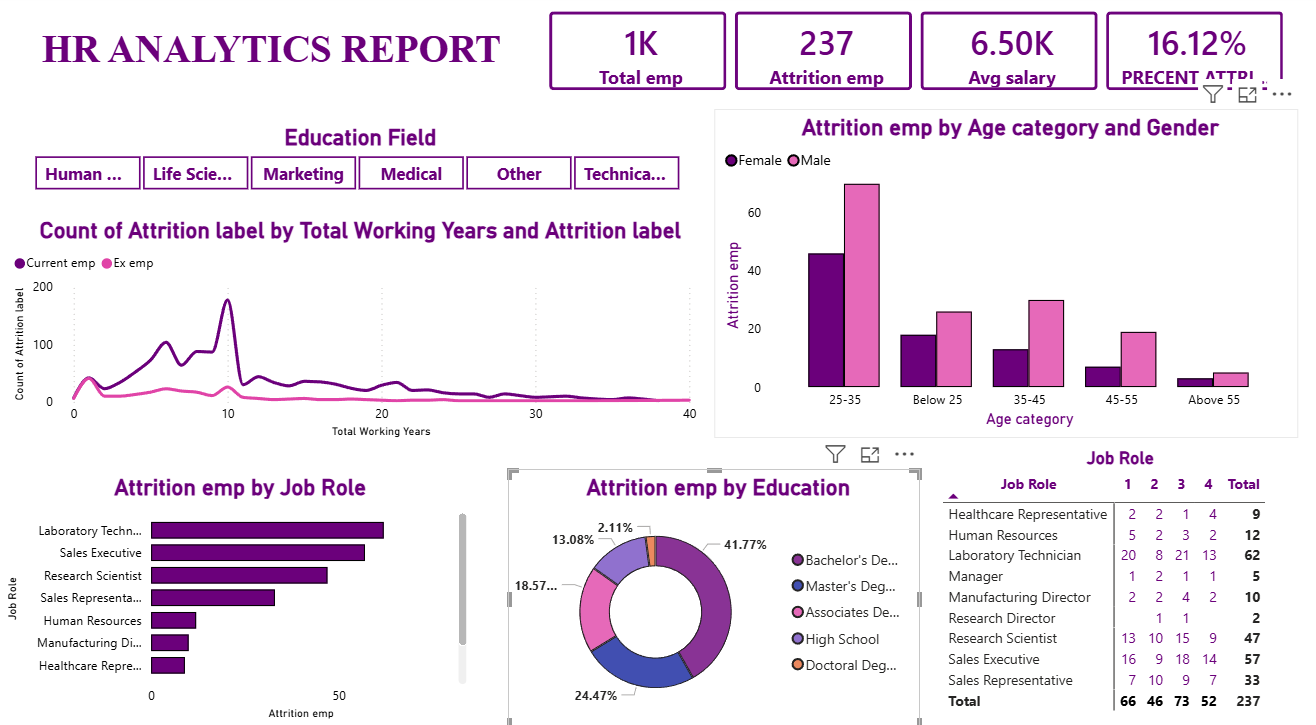

This screenshot's page, from the dashboard's own definition file:
{"tool":"powerbi","page":{"name":"REPORT","canvas":[1280,720],"ordinal":1},"visuals":[{"type":"textbox","box":[0,21.7,532,80.8],"z":0},{"type":"cardVisual","fields":{"Data":["Sheet1.Total emp","Sheet1.Attrition emp","Sheet1.Avg salary","Sheet1.PRECENT ATTRITION"]},"box":[520,0,744.4,111],"z":1000},{"type":"slicer","title":"Education Field","fields":{"Values":["Sheet1.Education Field"]},"box":[9.6,120.8,682,79.6],"z":2000},{"type":"lineChart","fields":{"Category":["Sheet1.Total Working Years"],"Y":["CountNonNull(Sheet1.Attrition label)"],"Series":["Sheet1.Attrition label"]},"box":[9.6,211.3,682,226.4],"z":3000},{"type":"barChart","fields":{"Category":["Sheet1.Job Role"],"Y":["Sheet1.Attrition emp"]},"box":[2.4,458.4,464.5,250.9],"z":4000},{"type":"clusteredColumnChart","fields":{"Category":["Sheet1.Age category"],"Y":["Sheet1.Attrition emp"],"Series":["Sheet1.Gender"]},"box":[696.1,111,563.4,317.3],"z":5000},{"type":"donutChart","fields":{"Category":["Sheet1.Education"],"Y":["Sheet1.Attrition emp"]},"box":[496.7,458.3,397.9,251.1],"z":6000},{"type":"pivotTable","title":"Job Role","fields":{"Rows":["Sheet1.Job Role"],"Columns":["Sheet1.Job Satisfaction"],"Values":["Sheet1.Attrition emp"]},"box":[912.1,437.9,352.3,271.4],"z":7000}]}

Visuals, with their boxes in screenshot pixels (x1, y1, x2, y2), scaled from the page's 1280x720 canvas onto the 1316x725 screenshot:
textbox: [0,22,547,103]
cardVisual - Sheet1.Total emp x Sheet1.Attrition emp: [535,0,1300,112]
"Education Field" slicer: [10,122,711,202]
lineChart - Sheet1.Total Working Years x CountNonNull(Sheet1.Attrition label): [10,213,711,441]
barChart - Sheet1.Job Role x Sheet1.Attrition emp: [2,462,480,714]
clusteredColumnChart - Sheet1.Age category x Sheet1.Attrition emp: [716,112,1295,431]
donutChart - Sheet1.Education x Sheet1.Attrition emp: [511,461,920,714]
"Job Role" pivotTable: [938,441,1300,714]
